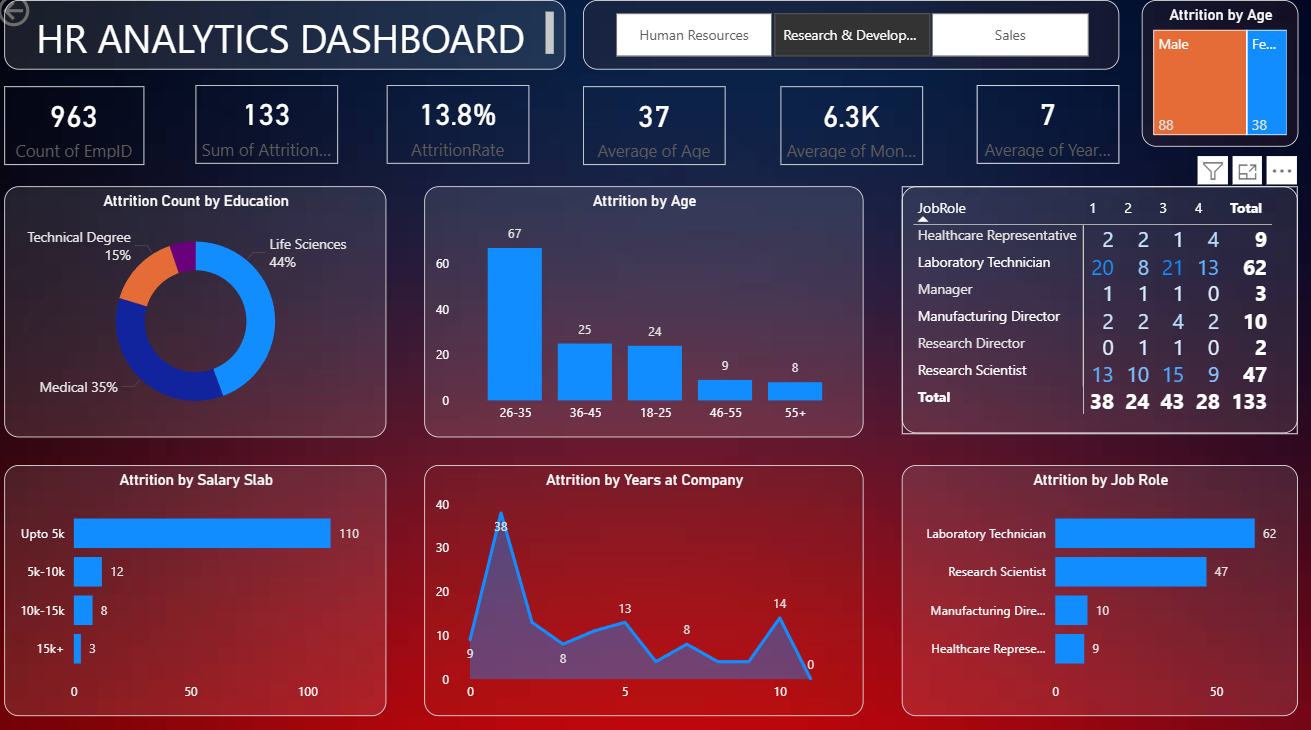

This screenshot's page, from the dashboard's own definition file:
{"tool":"powerbi","page":{"name":"Page 1","canvas":[1280,720],"ordinal":0},"visuals":[{"type":"card","fields":{"Values":["CountNonNull(HR_Analytics.EmpID)"]},"box":[11.2,92.5,135,76.2],"z":0},{"type":"card","fields":{"Values":["Sum(HR_Analytics.AttritionCount)"]},"box":[195,91.2,137.5,76.2],"z":1},{"type":"card","fields":{"Values":["Avg(HR_Analytics.Age)"]},"box":[570,92.5,137.5,76.2],"z":2},{"type":"card","fields":{"Values":["HR_Analytics.AttritionRate"]},"box":[380,91.2,137.5,76.2],"z":3},{"type":"card","fields":{"Values":["Avg(HR_Analytics.YearsAtCompany)"]},"box":[950,91.2,137.5,76.2],"z":4},{"type":"card","fields":{"Values":["Avg(HR_Analytics.MonthlyIncome)"]},"box":[760,92.5,137.5,76.2],"z":5},{"type":"actionButton","box":[0,0,100,40],"z":6},{"type":"donutChart","title":"Attrition Count by Education","fields":{"Category":["HR_Analytics.EducationField"],"Y":["Sum(HR_Analytics.AttritionCount)"]},"box":[11.2,190,368.8,242.5],"z":7},{"type":"columnChart","title":"Attrition by Age","fields":{"Category":["HR_Analytics.AgeGroup"],"Y":["Sum(HR_Analytics.AttritionCount)"]},"box":[416.2,190,423.8,242.5],"z":8},{"type":"pivotTable","fields":{"Rows":["HR_Analytics.JobRole"],"Values":["Sum(HR_Analytics.AttritionCount)"],"Columns":["HR_Analytics.JobSatisfaction"]},"box":[877.5,190,382.5,238.8],"z":9},{"type":"barChart","title":"Attrition by Salary Slab","fields":{"Category":["HR_Analytics.SalarySlab"],"Y":["Sum(HR_Analytics.AttritionCount)"]},"box":[11.2,458.8,368.8,242.5],"z":10},{"type":"barChart","title":"Attrition by Job Role","fields":{"Category":["HR_Analytics.JobRole"],"Y":["Sum(HR_Analytics.AttritionCount)"]},"box":[877.5,458.8,382.5,242.5],"z":11},{"type":"areaChart","title":"Attrition by Years at Company","fields":{"Category":["HR_Analytics.YearsAtCompany"],"Y":["Sum(HR_Analytics.AttritionCount)"]},"box":[416.2,458.8,423.8,242.5],"z":12},{"type":"treemap","title":"Attrition by Age","fields":{"Group":["HR_Analytics.Gender"],"Values":["Sum(HR_Analytics.AttritionCount)"]},"box":[1108.8,10,151.2,141.2],"z":13},{"type":"slicer","fields":{"Values":["HR_Analytics.Department"]},"box":[570,10,517.5,67.5],"z":14},{"type":"textbox","box":[11.2,10,541.2,67.5],"z":15}]}

Visuals, with their boxes in screenshot pixels (x1, y1, x2, y2), scaled from the page's 1280x720 canvas onto the 1311x730 screenshot:
card - CountNonNull(HR_Analytics.EmpID): 11/94/150/171
card - Sum(HR_Analytics.AttritionCount): 200/92/341/170
card - Avg(HR_Analytics.Age): 584/94/725/171
card - HR_Analytics.AttritionRate: 389/92/530/170
card - Avg(HR_Analytics.YearsAtCompany): 973/92/1114/170
card - Avg(HR_Analytics.MonthlyIncome): 778/94/919/171
actionButton: 0/0/102/41
"Attrition Count by Education" donutChart: 11/193/389/439
"Attrition by Age" columnChart: 426/193/860/439
pivotTable - HR_Analytics.JobRole x Sum(HR_Analytics.AttritionCount): 899/193/1291/435
"Attrition by Salary Slab" barChart: 11/465/389/711
"Attrition by Job Role" barChart: 899/465/1291/711
"Attrition by Years at Company" areaChart: 426/465/860/711
"Attrition by Age" treemap: 1136/10/1291/153
slicer - HR_Analytics.Department: 584/10/1114/79
textbox: 11/10/566/79
